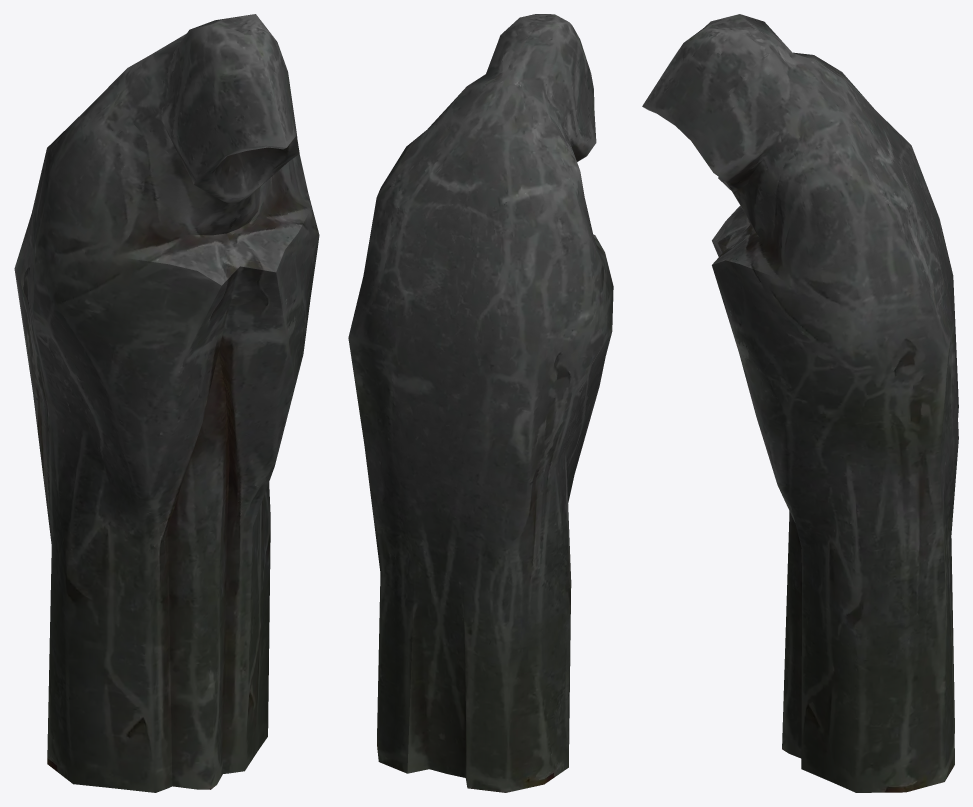
3 views of the same model, side by side, from view 1: azimuth 30°, elevation 25°; view 2: azimuth 150°, elevation 25°; view 3: azimuth 270°, elevation 25° (orthographic). The views are drawn at different scales.
Parts seen in each view (by area): view 1: SM_DR_Statue_Robed_A_01_LOD0; view 2: SM_DR_Statue_Robed_A_01_LOD0; view 3: SM_DR_Statue_Robed_A_01_LOD0.
Part boxes in pixels (x1=…): SM_DR_Statue_Robed_A_01_LOD0: x1=14, y1=14, x2=319, y2=792; SM_DR_Statue_Robed_A_01_LOD0: x1=348, y1=14, x2=613, y2=792; SM_DR_Statue_Robed_A_01_LOD0: x1=642, y1=14, x2=958, y2=792.
Bounding box in the file's own units: 1.34 × 3.9 × 1.55.
Materials: 1 (1 with a texture image).
